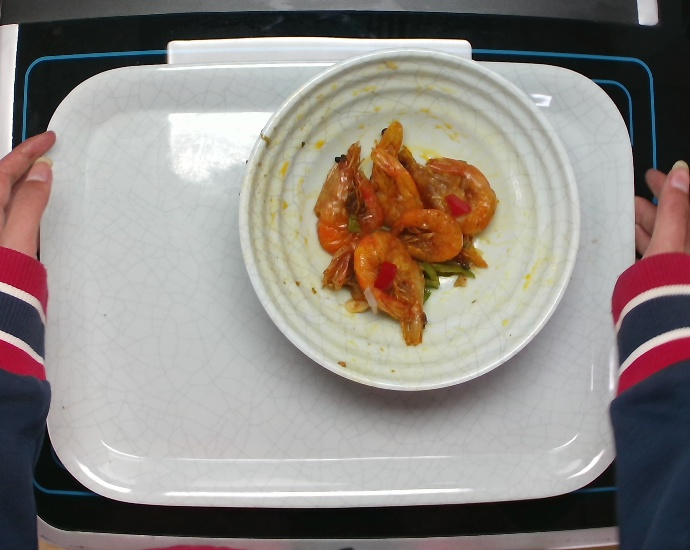JYsf-Da_Tang_Wan: (232, 45, 590, 399)
